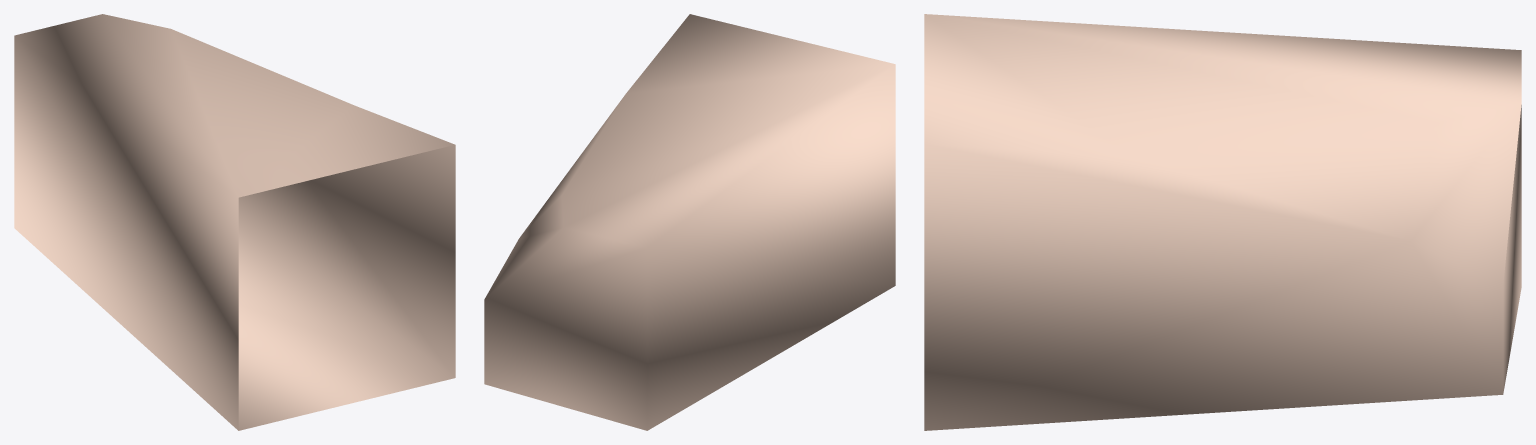
3 renders of one model, left to right at view 1: azimuth 30°, elevation 25°; view 2: azimuth 150°, elevation 25°; view 3: azimuth 270°, elevation 25°, orthographic. The views are drawn at different scales.
Visible parts, largest first — view 1: Object14; view 2: Object14; view 3: Object14.
Boxes of the visible parts, box(x1,y1,x2,y2) form: Object14: box(14, 14, 455, 430); Object14: box(484, 14, 895, 430); Object14: box(924, 14, 1521, 430).
Size of the model in its own units: 11949 by 12278 by 23173.
